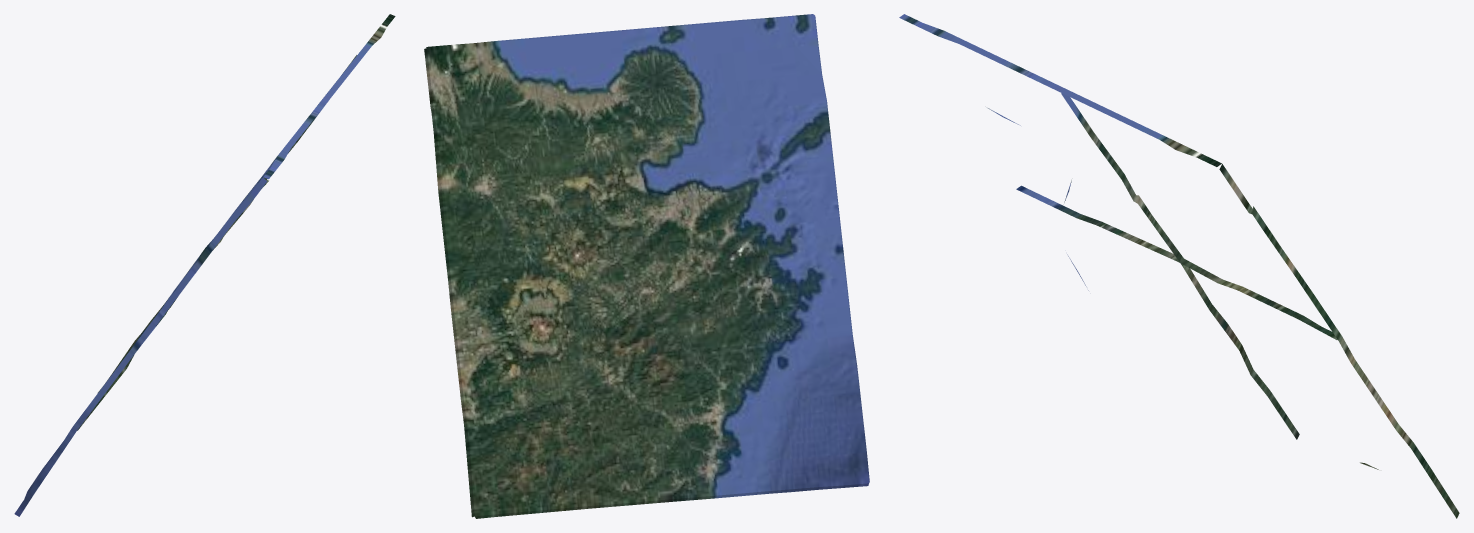
The picture shows the model from 3 angles, left to right: view 1: azimuth 30°, elevation 25°; view 2: azimuth 150°, elevation 25°; view 3: azimuth 270°, elevation 25°; orthographic projection. The views are drawn at different scales.
Bounding box in the file's own units: 155903 × 134023 × 153432.
Materials: 1 (1 with a texture image).
